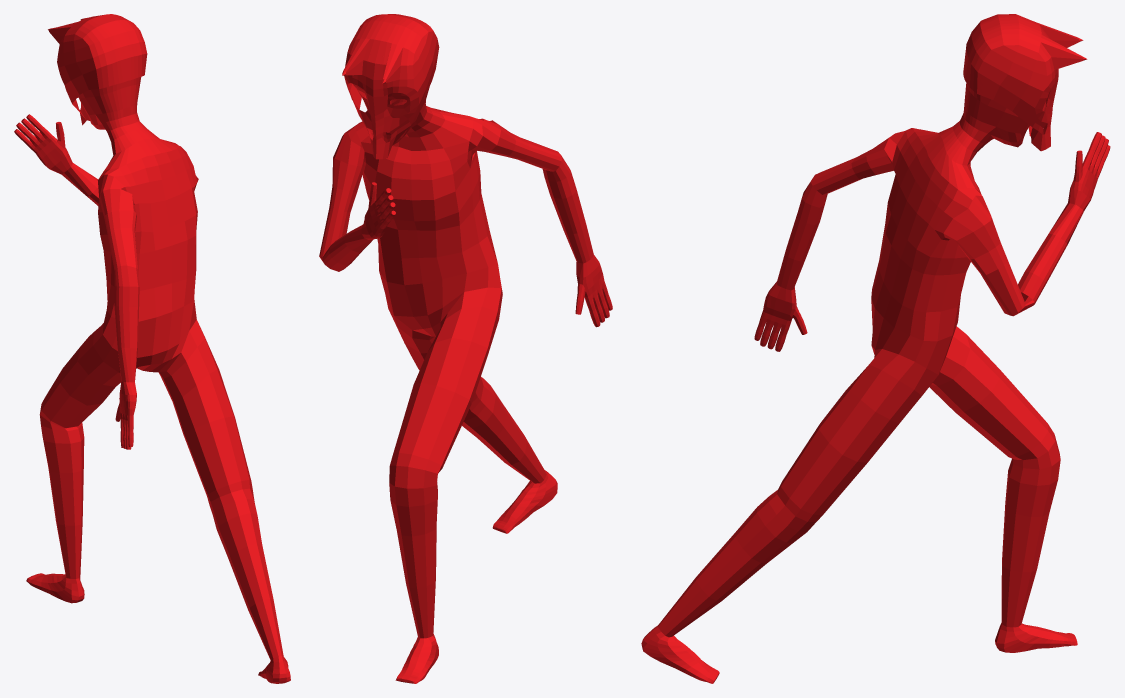
The model's file is marchaE_000042.obj.
The picture shows the model from 3 angles, left to right: view 1: azimuth 30°, elevation 25°; view 2: azimuth 150°, elevation 25°; view 3: azimuth 270°, elevation 25°; orthographic projection. The views are drawn at different scales.
Parts seen in each view (by area): view 1: Plane.002_Plane.001; view 2: Plane.002_Plane.001; view 3: Plane.002_Plane.001.
Boxes of the visible parts, <box> form: Plane.002_Plane.001: <box>14,14,290,683</box>; Plane.002_Plane.001: <box>319,14,612,683</box>; Plane.002_Plane.001: <box>641,14,1110,683</box>.
Bounding box in the file's own units: 1.86 × 6.41 × 4.22.
